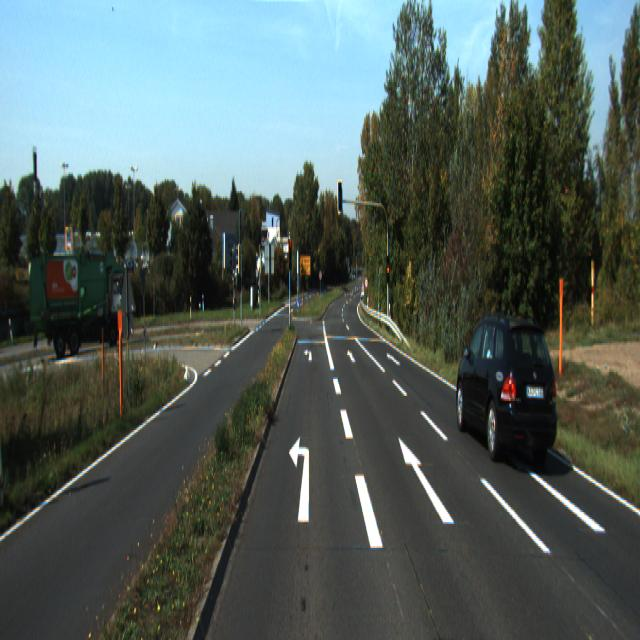Car: (453, 311, 560, 468)
Truck: (28, 251, 134, 357)
